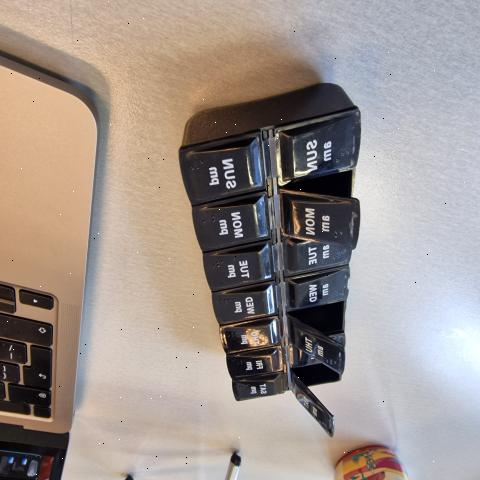Open: (289, 303, 346, 375), (291, 363, 342, 439), (281, 171, 359, 206)
